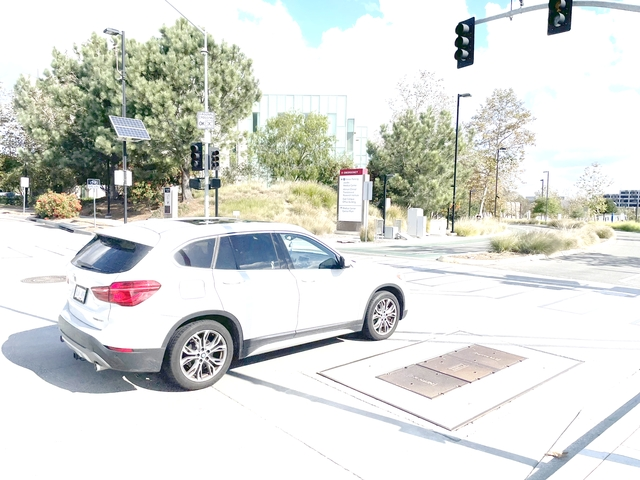Car: (52, 213, 409, 388)
